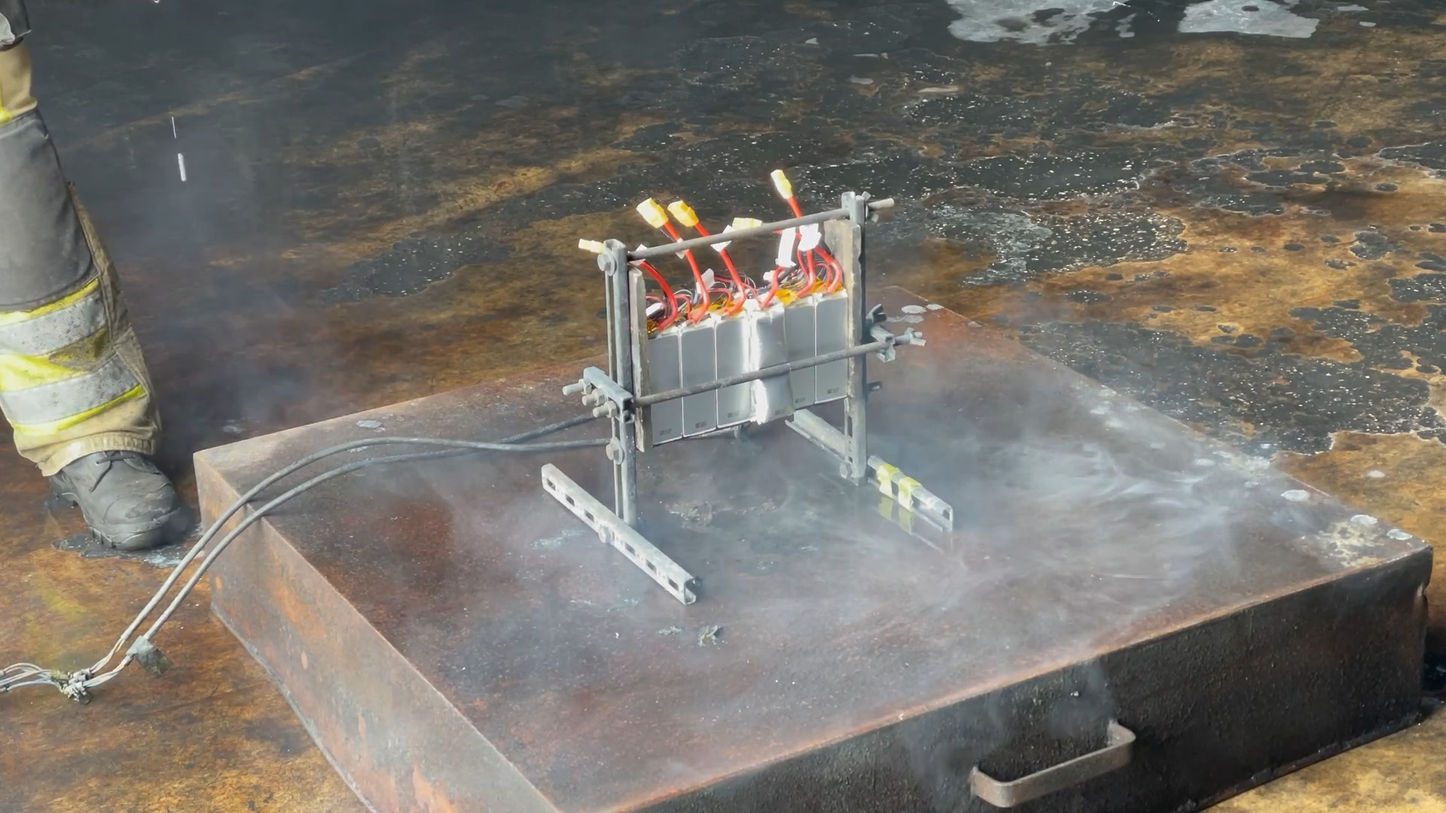smoke: (177, 242, 1274, 730)
